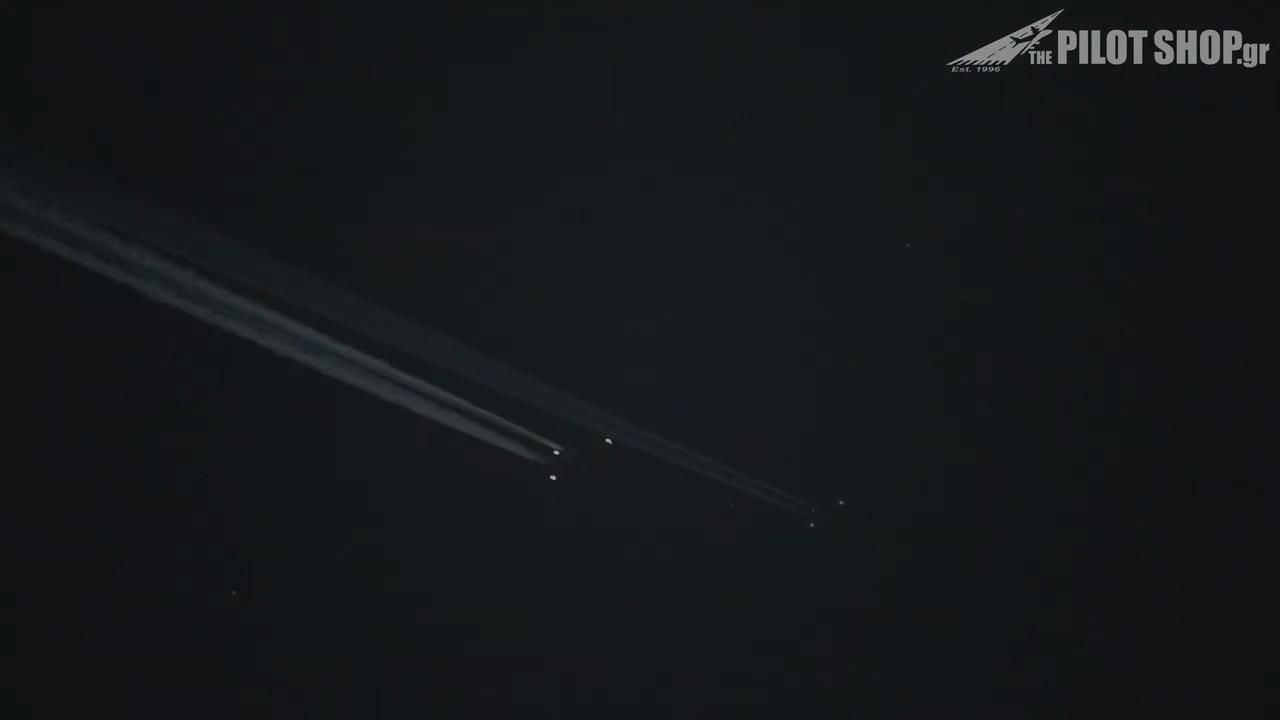Plane: (459, 420, 659, 497), (755, 484, 874, 534)
